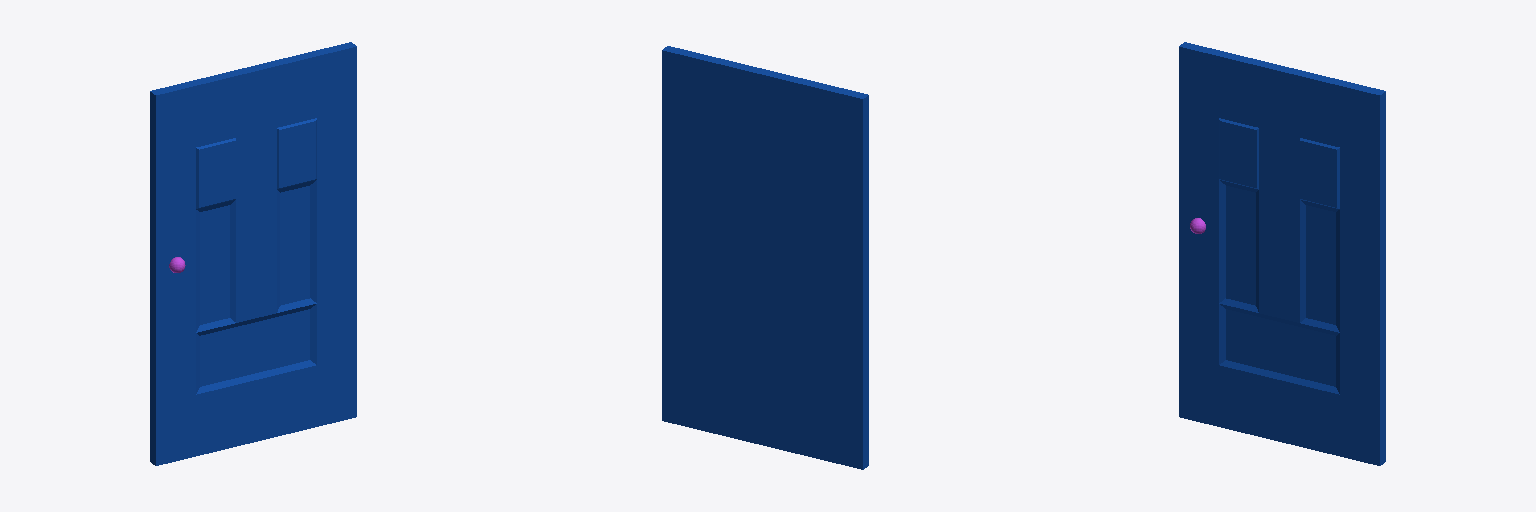
File: door.obj
3 renders of one model, left to right at view 1: azimuth 30°, elevation 25°; view 2: azimuth 150°, elevation 25°; view 3: azimuth 330°, elevation 25°, orthographic.
Parts seen in each view (by area): view 1: Box002; view 2: Box002; view 3: Box002.
Boxes of the visible parts, x1,y1,x2,y2 form: Box002: [150, 42, 356, 465]; Box002: [662, 46, 868, 469]; Box002: [1179, 42, 1385, 465].
Bounding box in the file's own units: 30.19 × 53.13 × 2.9.